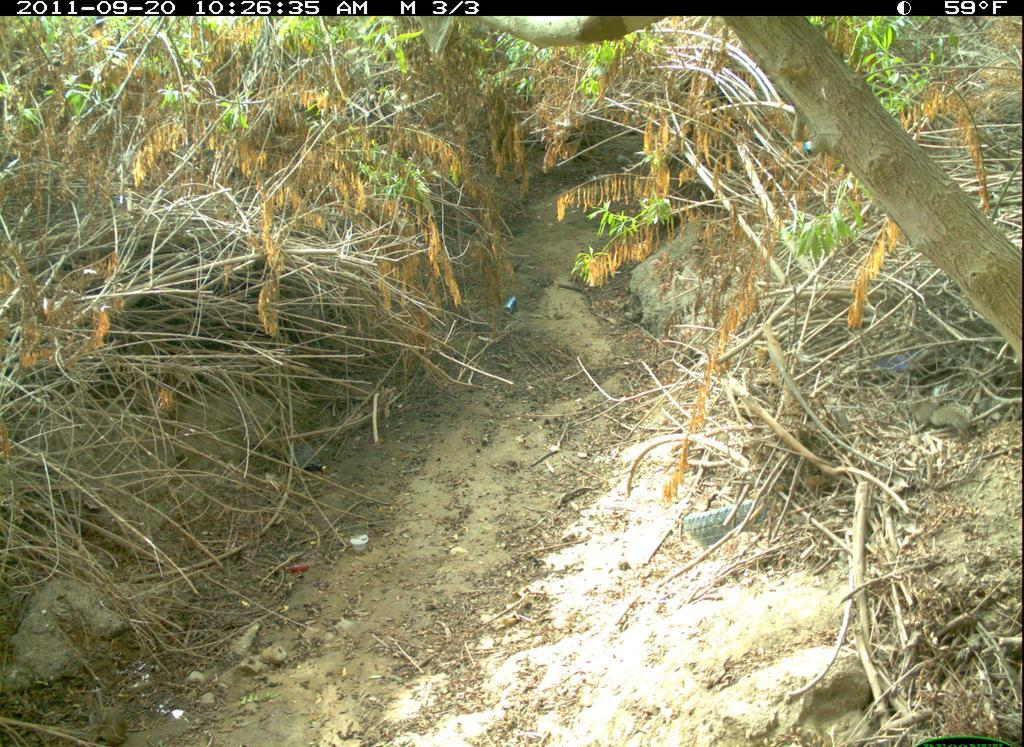squirrel: (910, 394, 975, 438)
